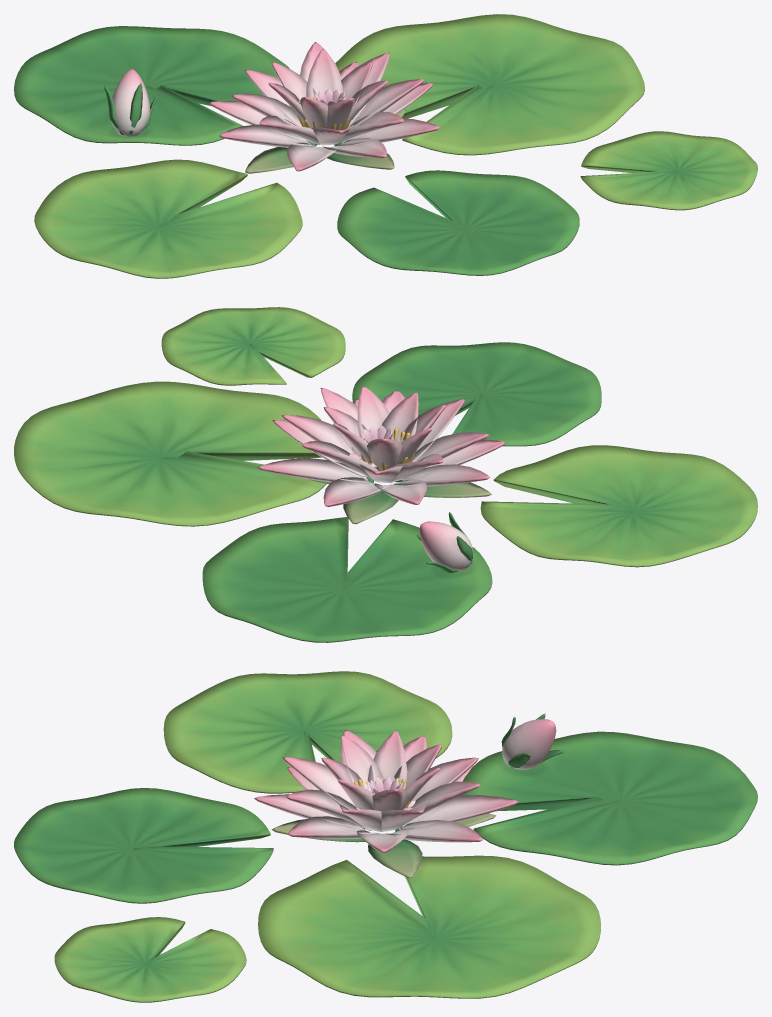
The model's file is enchanted-moonlily.glb.
3 renders of one model, top to bottom at view 1: azimuth 30°, elevation 25°; view 2: azimuth 150°, elevation 25°; view 3: azimuth 270°, elevation 25°, orthographic. The views are drawn at different scales.
Parts seen in each view (by area): view 1: lily-pad_body; view 2: lily-pad_body; view 3: lily-pad_body.
Boxes of the visible parts, x1,y1,x2,y2 form: lily-pad_body: (14, 14, 757, 278); lily-pad_body: (14, 307, 757, 642); lily-pad_body: (14, 671, 757, 1002).
Bounding box in the file's own units: 10.89 × 1.37 × 10.42.
2 materials, 1 textured.
